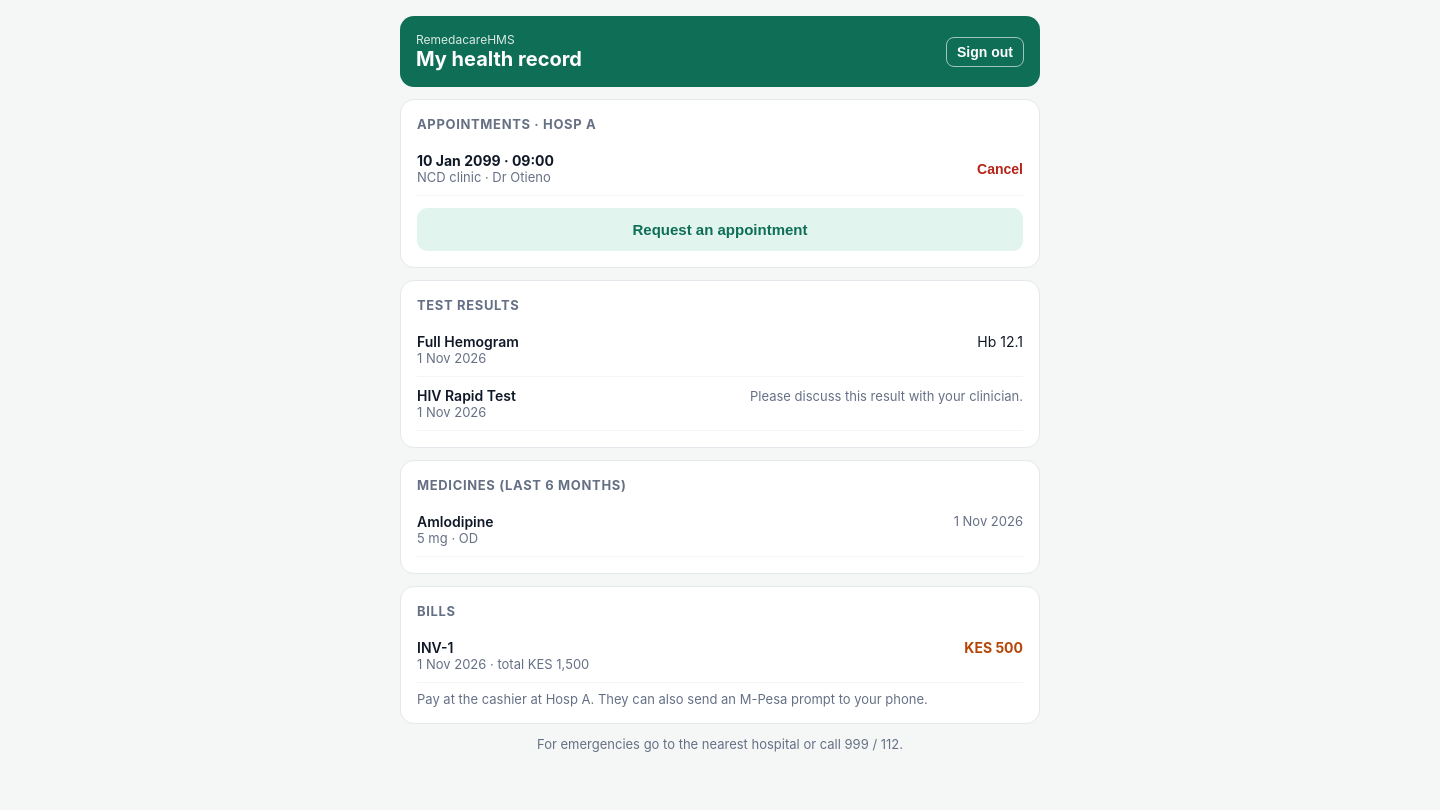
patient portal page › cancels an appointment after confirming
Click the button "Cancel" at (1000, 168), box 977,152 -> 1023,185
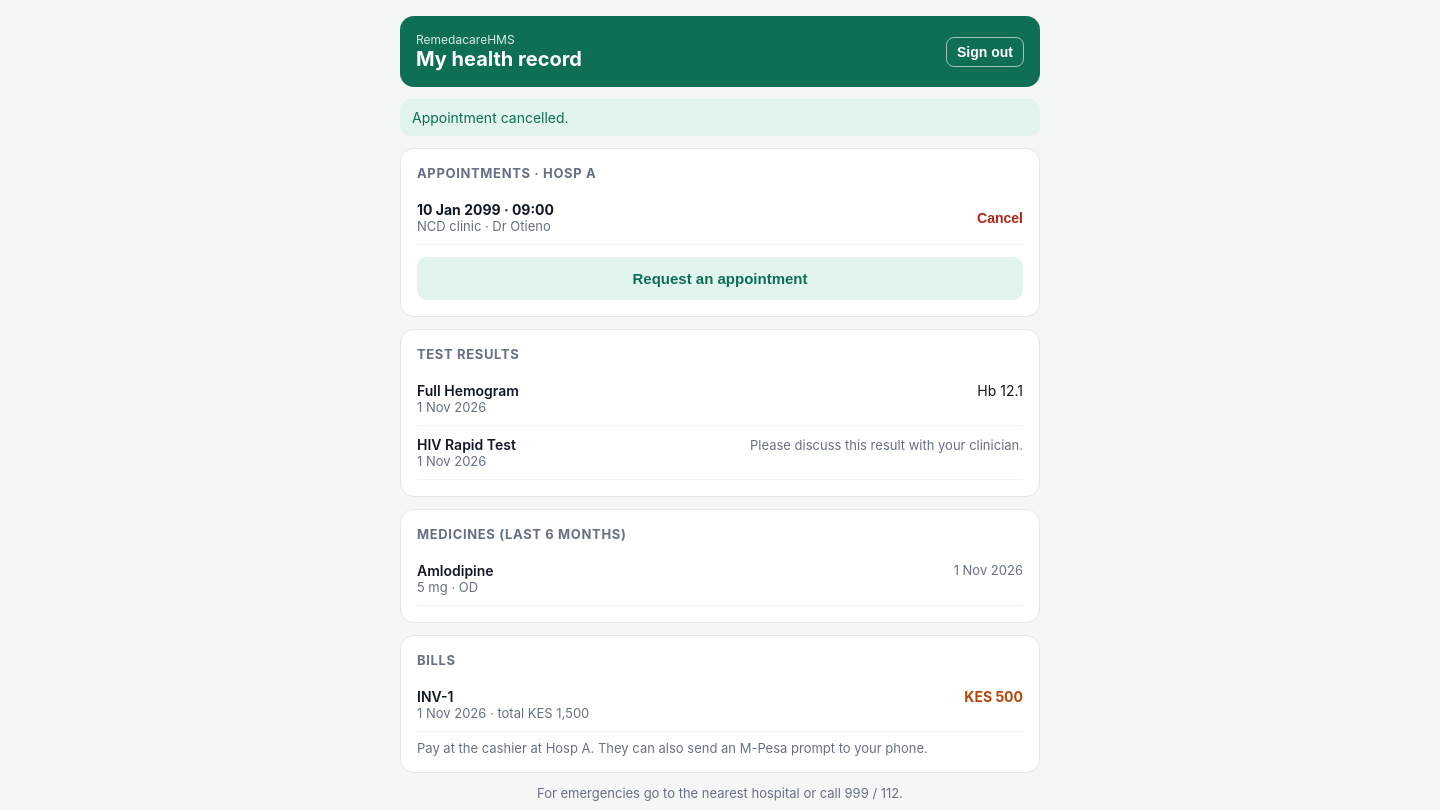
Result: the text "Appointment cancelled." is shown at 400,99 -> 1040,136
